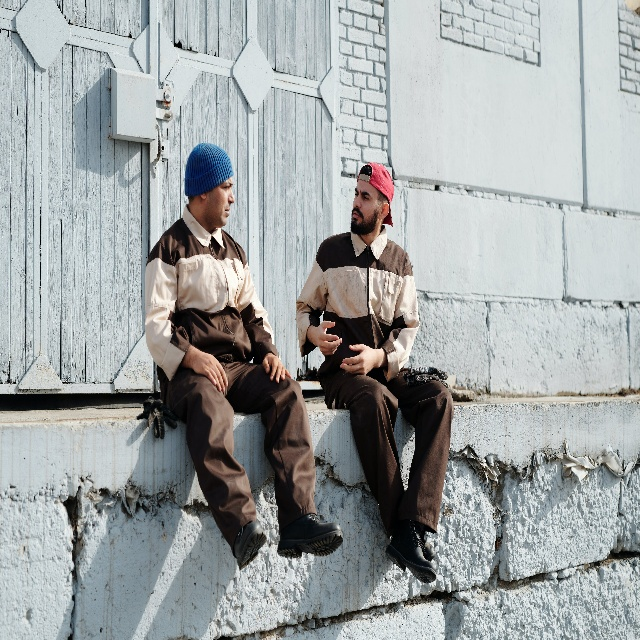Guantes: (136, 393, 179, 440), (401, 362, 450, 389)
Sin_guantes: (193, 347, 227, 394), (340, 343, 376, 376), (314, 321, 343, 356), (262, 352, 292, 385)
